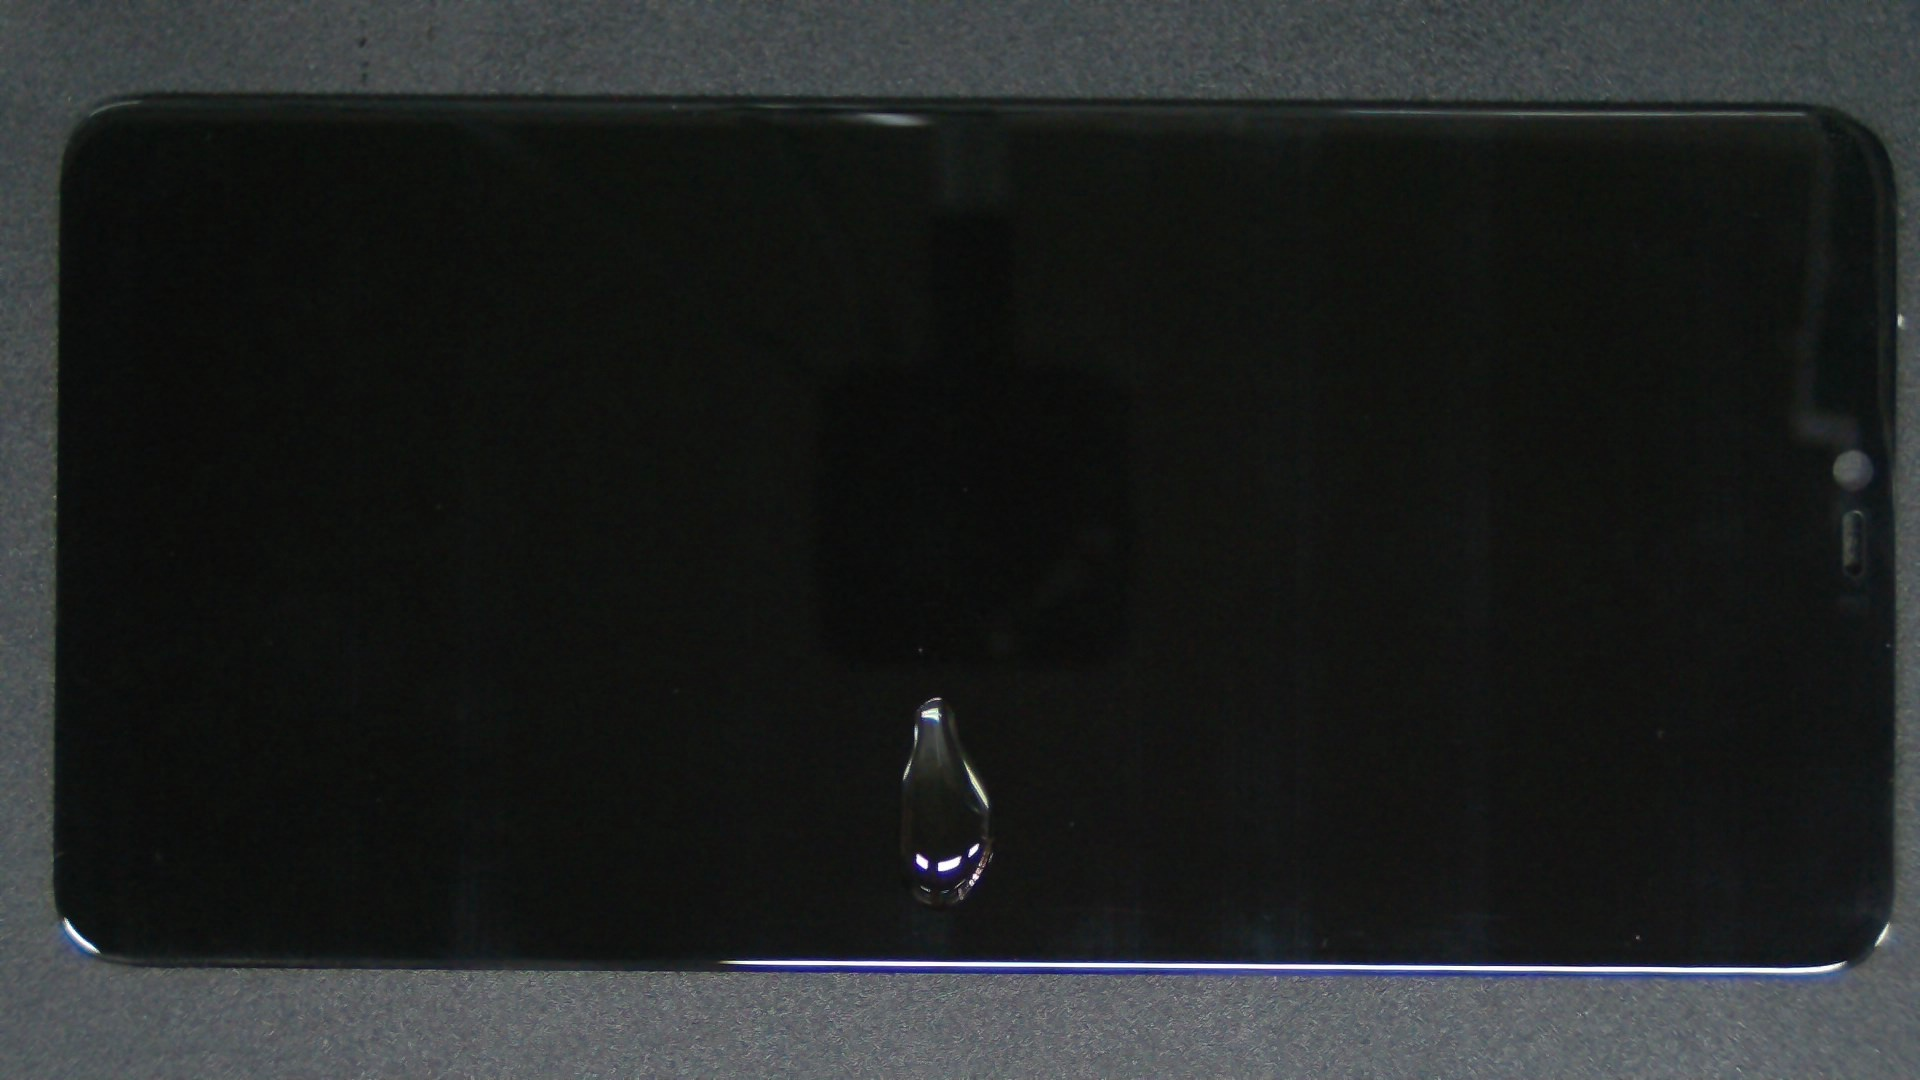oil: (469, 347, 1407, 1043)
